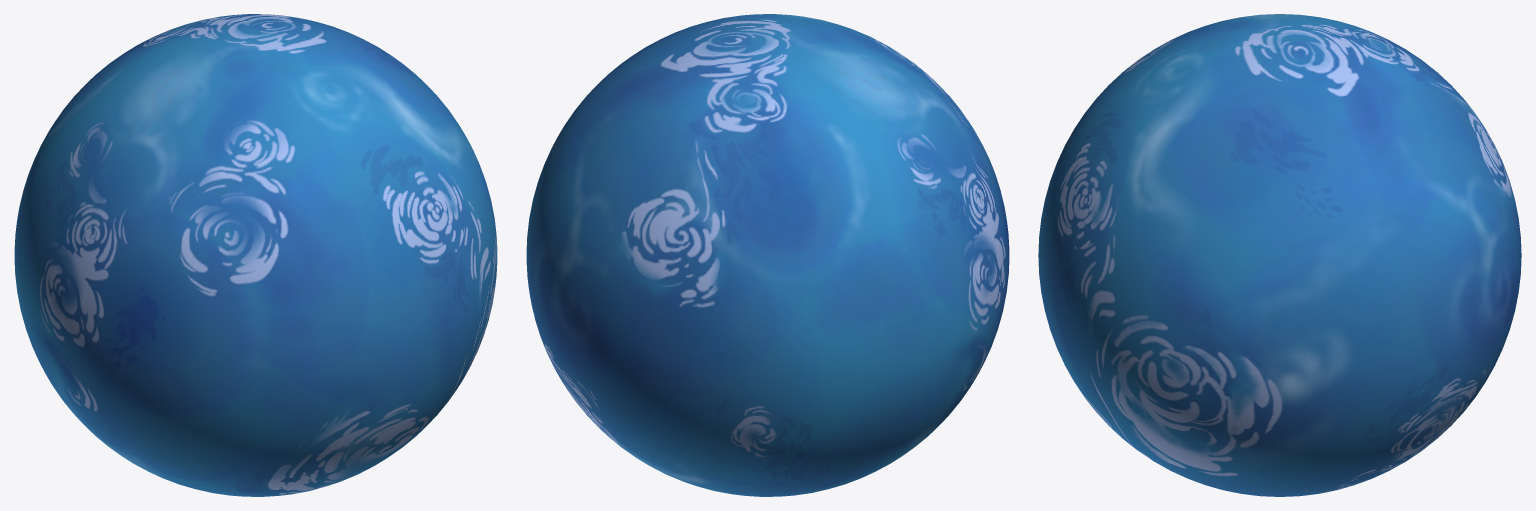
Rendered from planet_ocean_iteration_0.gltf.
The picture shows the model from 3 angles, left to right: view 1: azimuth 30°, elevation 25°; view 2: azimuth 150°, elevation 25°; view 3: azimuth 270°, elevation 25°; orthographic projection.
Visible parts, largest first — view 1: planet_ocean_iteration_0; view 2: planet_ocean_iteration_0; view 3: planet_ocean_iteration_0.
Part boxes in pixels (box(x1,y1,x2,y2)): planet_ocean_iteration_0: box(14, 14, 497, 496); planet_ocean_iteration_0: box(526, 14, 1009, 496); planet_ocean_iteration_0: box(1038, 14, 1521, 496).
Size of the model in its own units: 13.49 by 13.49 by 13.49.
1 material, 1 textured.
